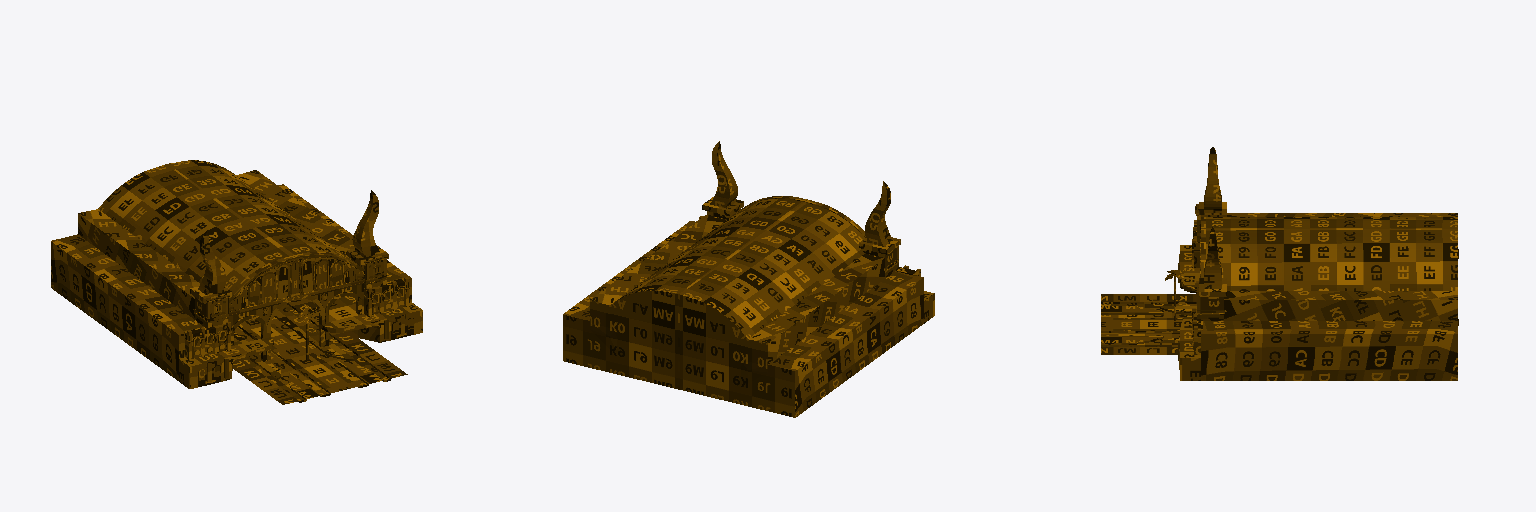
3 views of the same model, side by side, from view 1: azimuth 30°, elevation 25°; view 2: azimuth 150°, elevation 25°; view 3: azimuth 270°, elevation 25° (orthographic).
Parts seen in each view (by area): view 1: TrainStation1 InsideFaces, OutsideFaces TrainStation1, polySurface3 TrainStation, TrainStation1 Details pCube28, TrainStation1 Details pCube61, TrainStation1 Details pCube27, TrainStation1 Details pCube16, TrainStation1 Details pCube13, pPlane3, TrainStation1 Details pCube14, pPlane4; view 2: TrainStation1 InsideFaces, polySurface3 TrainStation; view 3: TrainStation1 InsideFaces, polySurface3 TrainStation, OutsideFaces TrainStation1, TrainStation1 Details pCube28.
Part boxes in pixels (bbox=[...]): TrainStation1 InsideFaces: bbox=[51, 160, 410, 404]; OutsideFaces TrainStation1: bbox=[179, 258, 422, 388]; polySurface3 TrainStation: bbox=[190, 190, 388, 303]; TrainStation1 Details pCube28: bbox=[195, 256, 387, 327]; TrainStation1 Details pCube61: bbox=[184, 278, 405, 359]; TrainStation1 Details pCube27: bbox=[229, 252, 364, 304]; TrainStation1 Details pCube16: bbox=[194, 275, 386, 322]; TrainStation1 Details pCube13: bbox=[231, 292, 361, 361]; pPlane3: bbox=[278, 261, 312, 299]; TrainStation1 Details pCube14: bbox=[266, 295, 324, 360]; pPlane4: bbox=[264, 261, 326, 302]; TrainStation1 InsideFaces: bbox=[563, 199, 923, 417]; polySurface3 TrainStation: bbox=[702, 141, 900, 257]; TrainStation1 InsideFaces: bbox=[1101, 213, 1458, 380]; polySurface3 TrainStation: bbox=[1199, 147, 1226, 296]; OutsideFaces TrainStation1: bbox=[1180, 245, 1200, 380]; TrainStation1 Details pCube28: bbox=[1195, 204, 1223, 318].
Bounding box in the file's own units: 30.4 × 17.57 × 40.41.
1 materials, 1 textured.